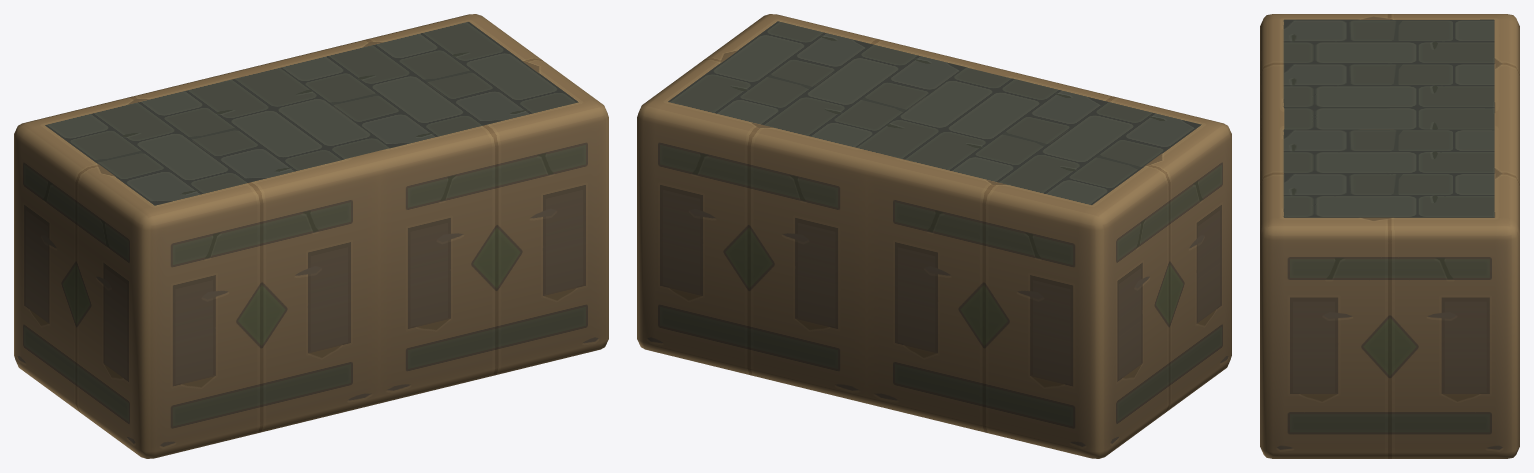
The model's file is G_016_SpinBox_Sub_3.FBX.
3 renders of one model, left to right at view 1: azimuth 30°, elevation 25°; view 2: azimuth 150°, elevation 25°; view 3: azimuth 270°, elevation 25°, orthographic. The views are drawn at different scales.
Parts seen in each view (by area): view 1: G_016_SpinBox_Sub_3; view 2: G_016_SpinBox_Sub_3; view 3: G_016_SpinBox_Sub_3.
Part boxes in pixels (left/top/right/bottom): G_016_SpinBox_Sub_3: left=14, top=14, right=608, bottom=458; G_016_SpinBox_Sub_3: left=637, top=14, right=1231, bottom=458; G_016_SpinBox_Sub_3: left=1260, top=14, right=1519, bottom=458.
Size of the model in its own units: 800 by 400 by 400.
